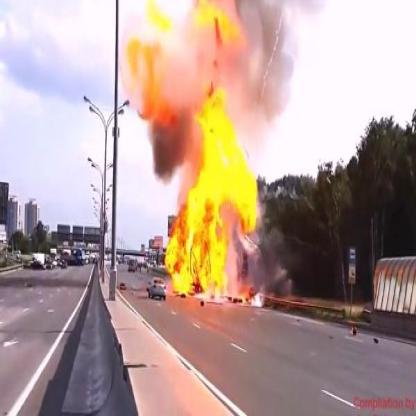fire: (158, 83, 263, 311), (192, 2, 241, 43), (142, 0, 178, 33)
